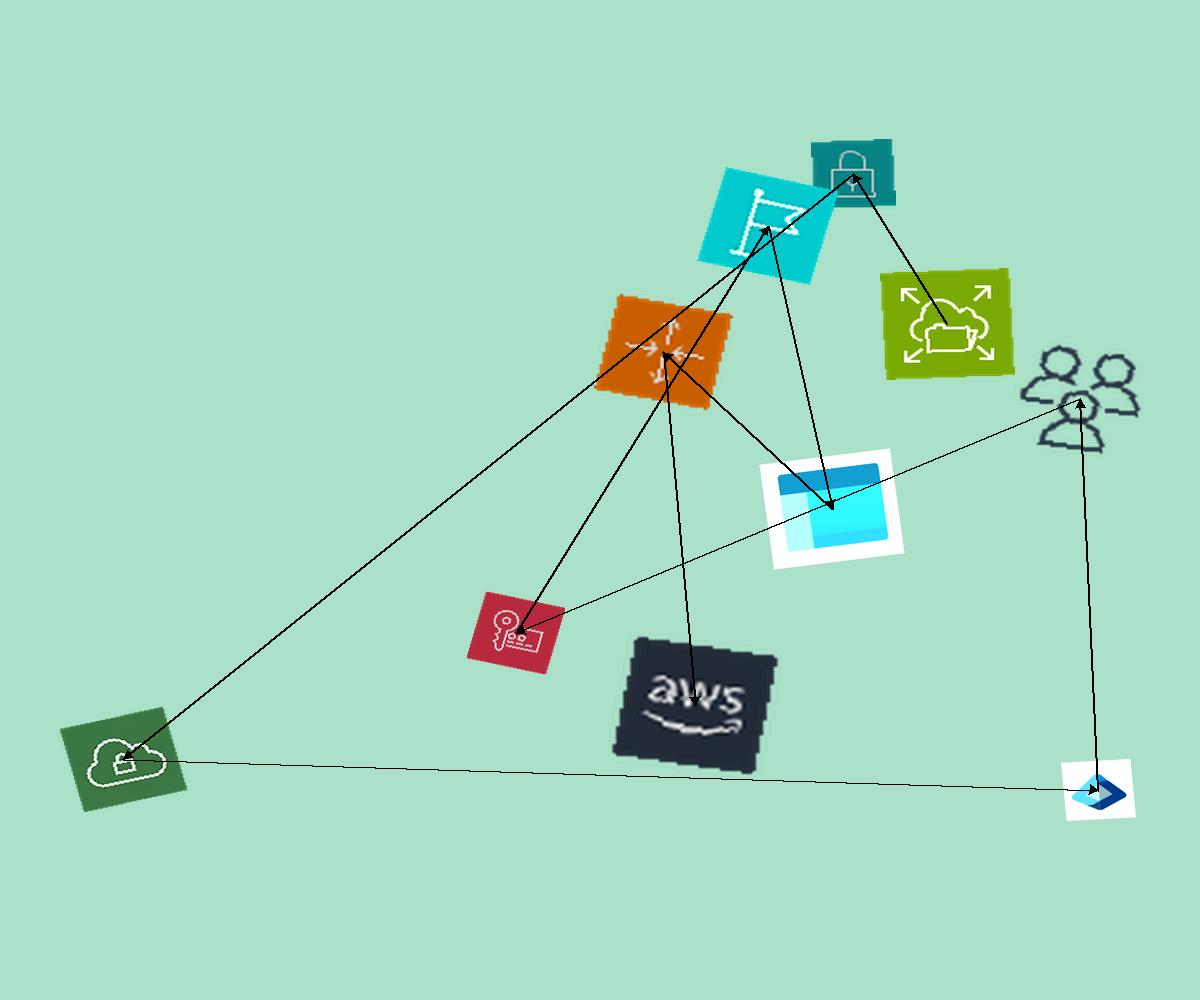AWS-Cloud-logo: (609, 634, 781, 777)
AWS-EFS: (880, 268, 1015, 380)
AWS-Key-Management-Service: (466, 591, 566, 675)
AWS-Private-subnet: (811, 139, 896, 209)
AWS-Private_vpc: (59, 706, 188, 813)
AWS-Region: (697, 167, 839, 285)
AWS-Res_Users: (1004, 336, 1157, 463)
AWS-Scaling-group: (594, 294, 733, 410)
Azure_management-portal: (759, 448, 905, 570)
Azure_microsoft_entra: (1061, 759, 1136, 821)
